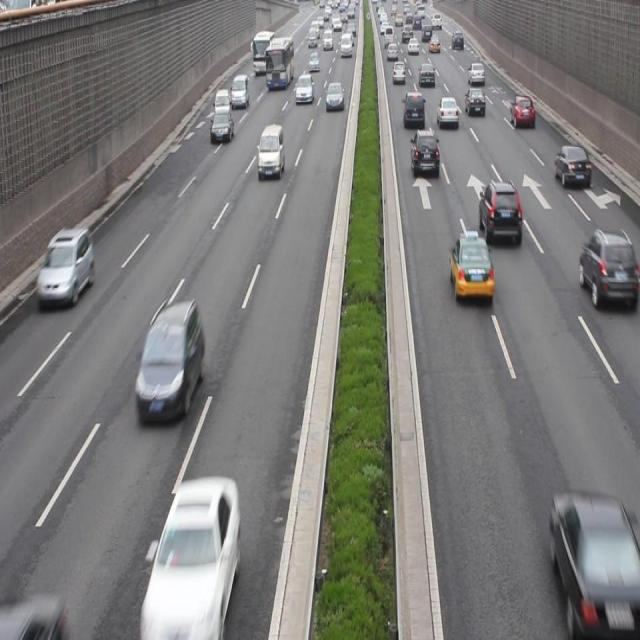car: (141, 476, 239, 640), (547, 490, 640, 630), (135, 306, 204, 418), (578, 226, 640, 310), (38, 228, 94, 308), (448, 231, 491, 304), (476, 181, 520, 246), (553, 147, 589, 190), (409, 132, 437, 176), (511, 94, 534, 132), (210, 111, 234, 144), (437, 98, 458, 130)
truck: (257, 125, 284, 177), (402, 92, 425, 130), (214, 87, 230, 123)
